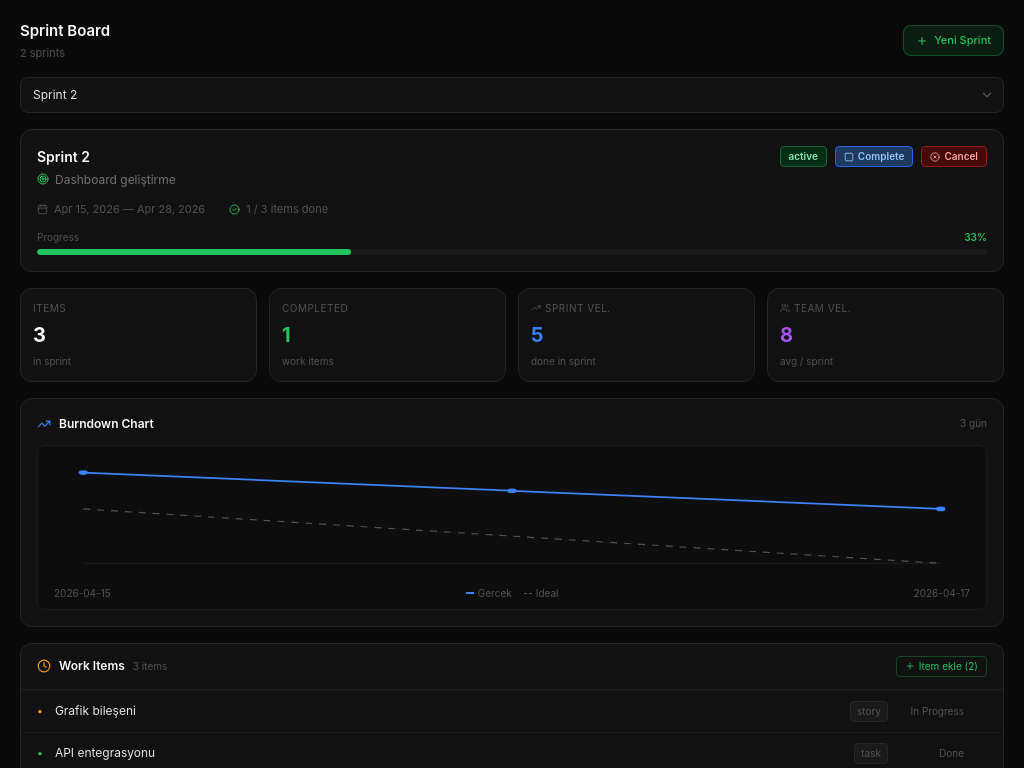
SprintBoard — CreateSprintModal › "Yeni Sprint" butonuna tıklayınca modal açılmalı
Click the button "Yeni Sprint" at (954, 41), box [903,25,1004,56]
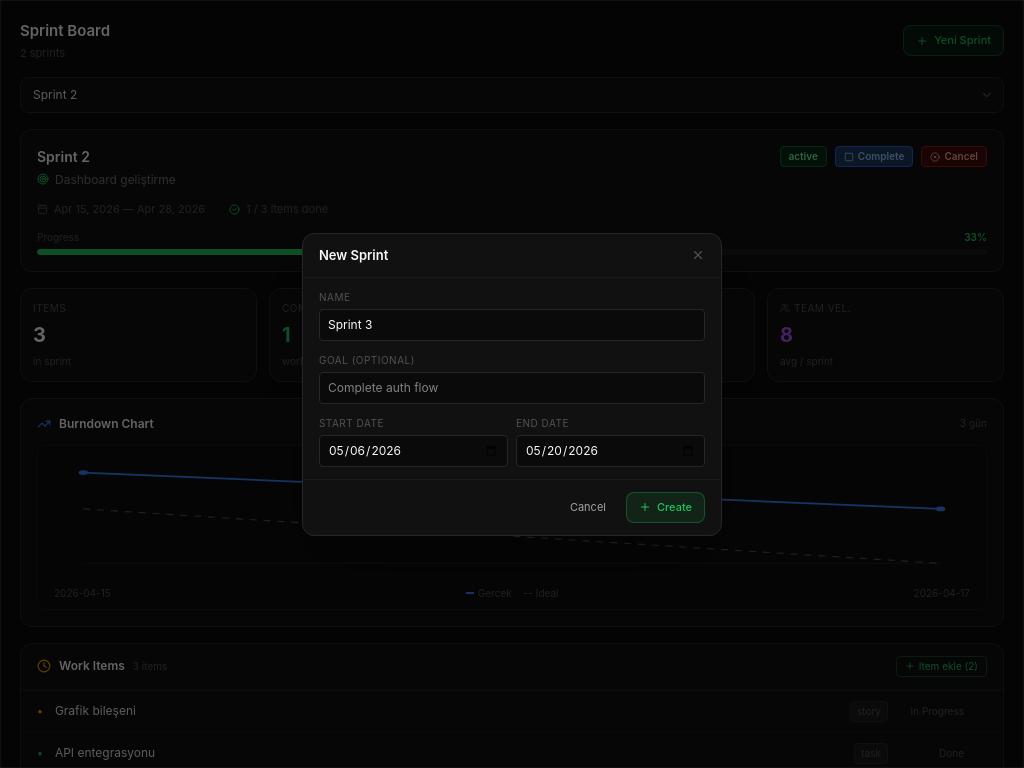
Now the heading "New Sprint" is shown, box [319,246,388,265]
